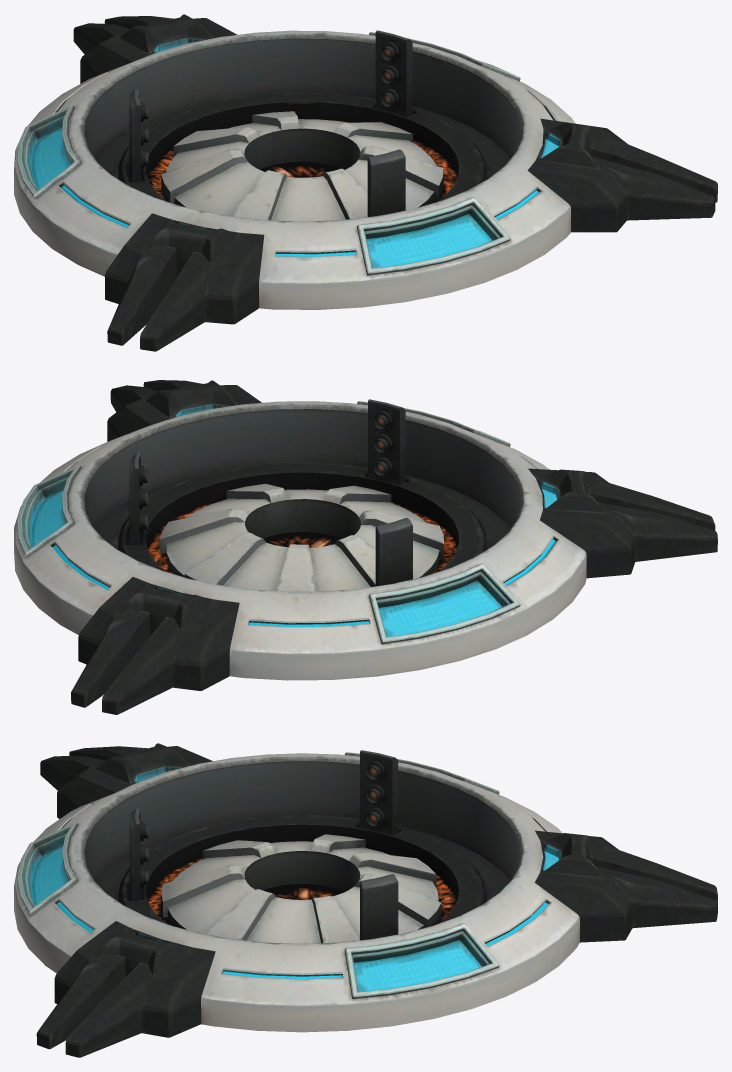
The model's file is energy_pallet_catcher.glb.
The picture shows the model from 3 angles, top to bottom: view 1: azimuth 30°, elevation 25°; view 2: azimuth 150°, elevation 25°; view 3: azimuth 270°, elevation 25°; orthographic projection.
Visible parts, largest first — view 1: combine_ball_launcher; view 2: combine_ball_launcher; view 3: combine_ball_launcher.
Part boxes in pixels (box(x1,y1,x2,y2)): combine_ball_launcher: box(14, 14, 717, 351); combine_ball_launcher: box(14, 380, 717, 714); combine_ball_launcher: box(14, 743, 717, 1057).
Bounding box in the file's own units: 1.18 × 0.1805 × 1.19.
1 material, 1 textured.
